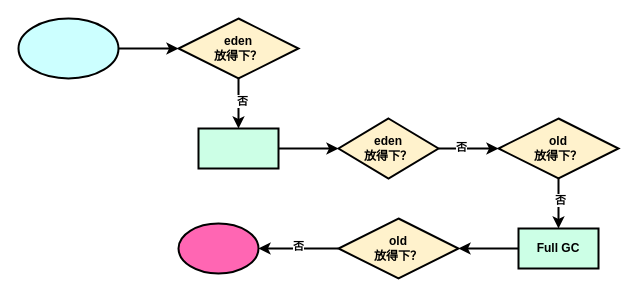
This 636x296 diagram has some shape labels left out. Here are the shapes that lost their labels. From the top down, the centre of each, then its label:
pixel 68 48: new Object
pixel 238 148: YGC
pixel 218 248: OOM
